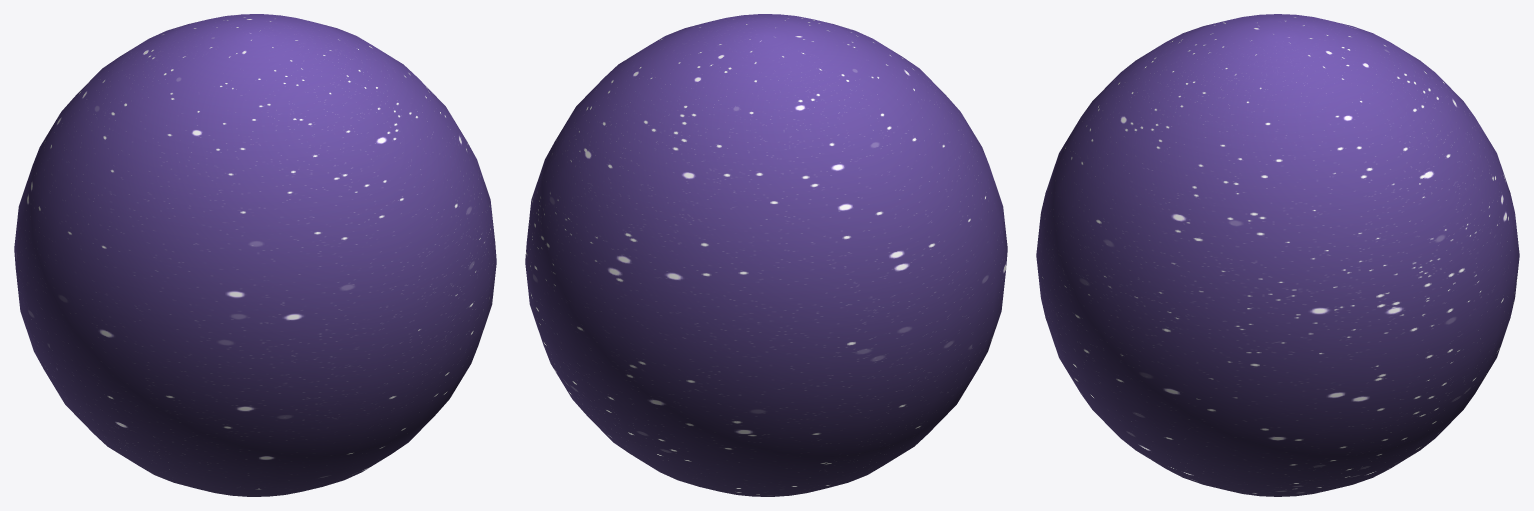
File: 神社と鳥居と名月2版.glb
The picture shows the model from 3 angles, left to right: view 1: azimuth 30°, elevation 25°; view 2: azimuth 150°, elevation 25°; view 3: azimuth 270°, elevation 25°; orthographic projection.
Visible parts, largest first — view 1: 平面.010; view 2: 平面.010; view 3: 平面.010.
Boxes of the visible parts, x1=… form: 平面.010: x1=14, y1=14, x2=496, y2=496; 平面.010: x1=525, y1=14, x2=1007, y2=496; 平面.010: x1=1036, y1=14, x2=1519, y2=496.
Bounding box in the file's own units: 495 × 495 × 495.
13 materials, 1 textured.
